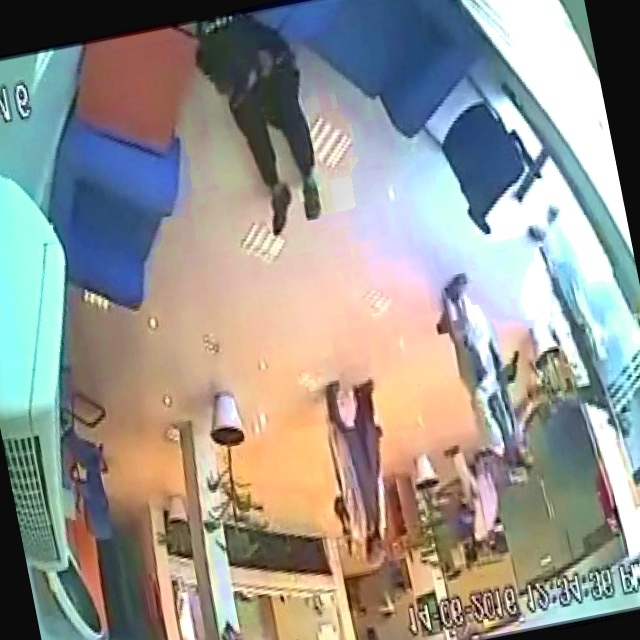gun: (499, 353, 526, 391), (342, 535, 357, 564)
